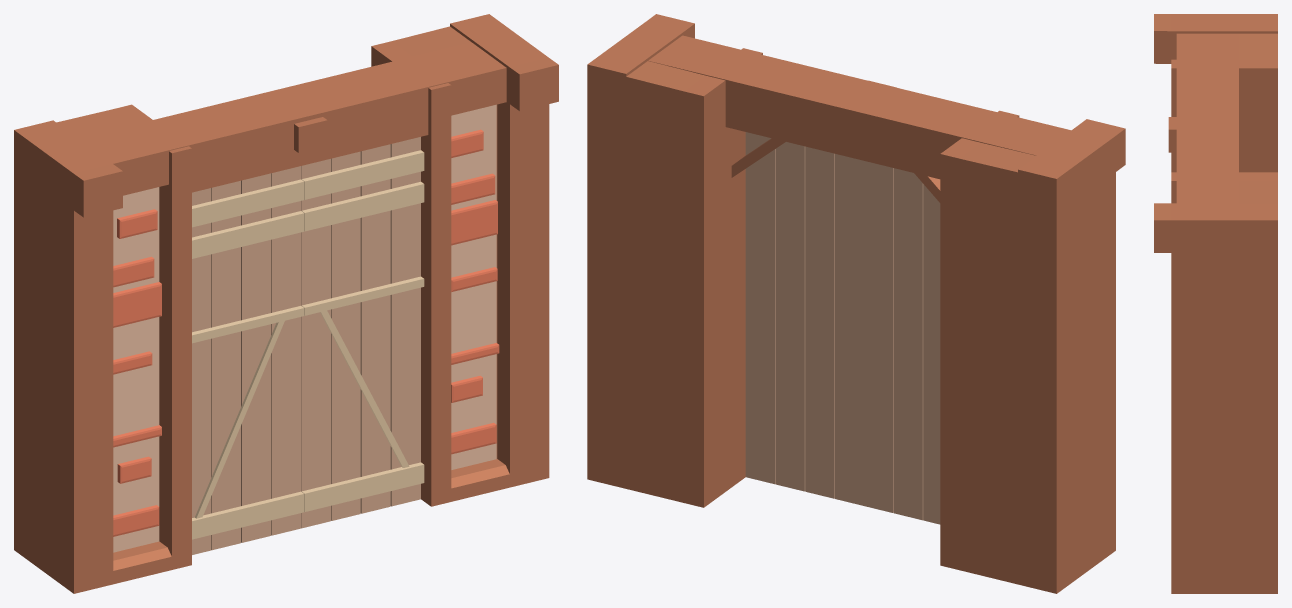
Rendered from DoorWall.fbx.
The picture shows the model from 3 angles, left to right: view 1: azimuth 30°, elevation 25°; view 2: azimuth 150°, elevation 25°; view 3: azimuth 270°, elevation 25°; orthographic projection. The views are drawn at different scales.
Parts seen in each view (by area): view 1: Cube.050; view 2: Cube.050; view 3: Cube.050.
Boxes of the visible parts, <box> form: Cube.050: <box>14,14,558,593</box>; Cube.050: <box>587,14,1125,593</box>; Cube.050: <box>1154,14,1277,593</box>.
Size of the model in its own units: 242 by 204 by 61.44.
1 material, 1 textured.
